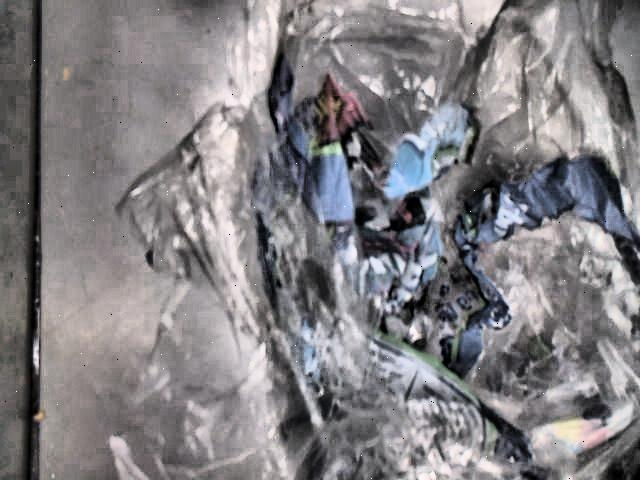Plastic: (103, 0, 640, 480)
